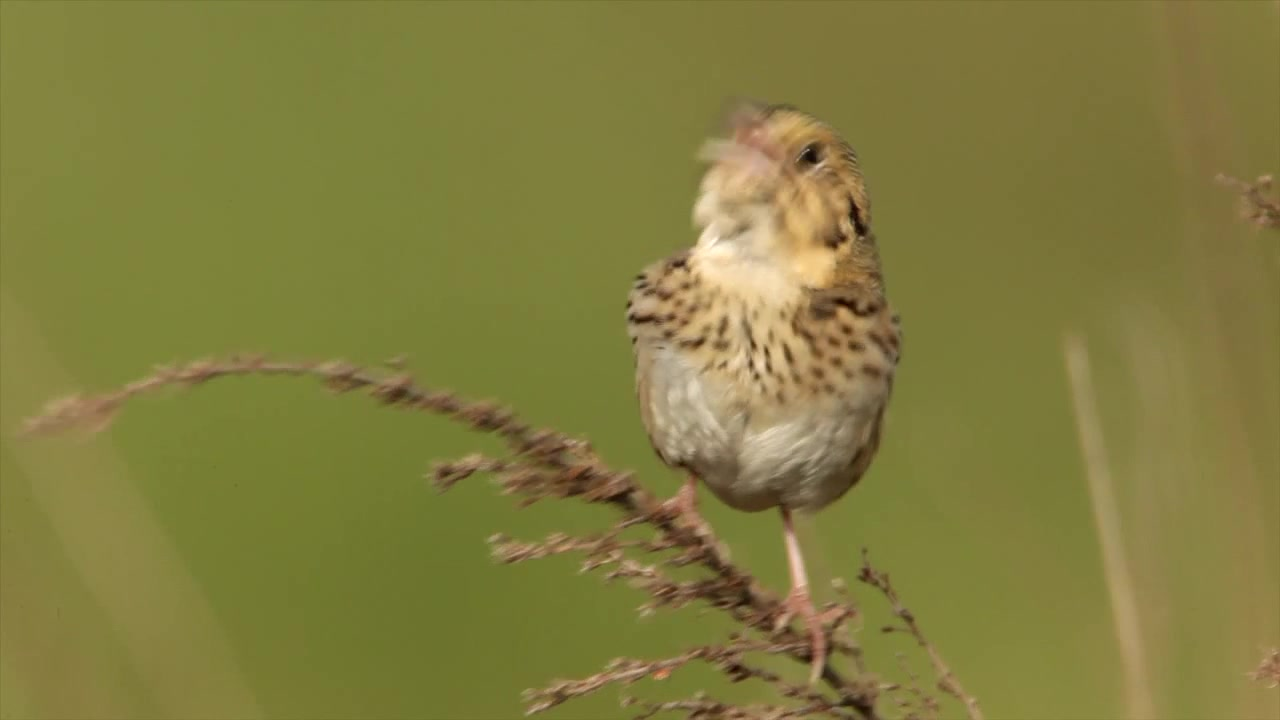bird: (625, 95, 903, 687)
